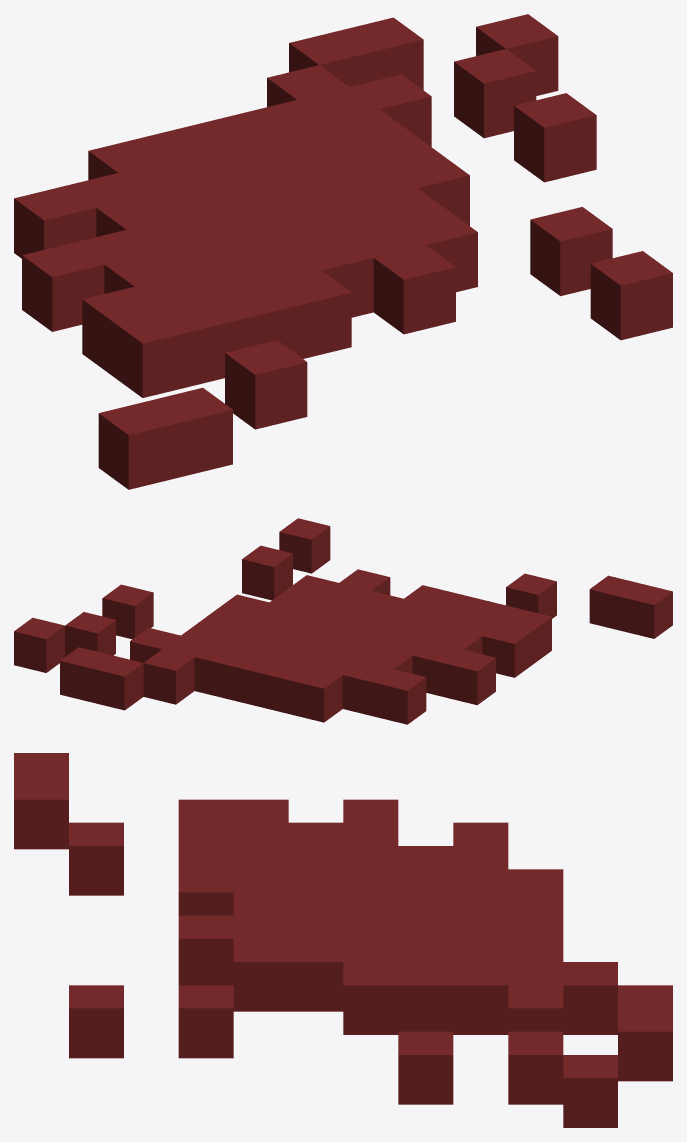
The model's file is blood_01.obj.
3 renders of one model, top to bottom at view 1: azimuth 30°, elevation 25°; view 2: azimuth 150°, elevation 25°; view 3: azimuth 270°, elevation 25°, orthographic. The views are drawn at different scales.
Parts seen in each view (by area): view 1: blood_01; view 2: blood_01; view 3: blood_01.
Part boxes in pixels (x1,y1,x2,y2): blood_01: (14,14,672,489); blood_01: (14,518,672,724); blood_01: (14,753,672,1127).
Size of the model in its own units: 14 by 1 by 12.
1 material, 1 textured.
